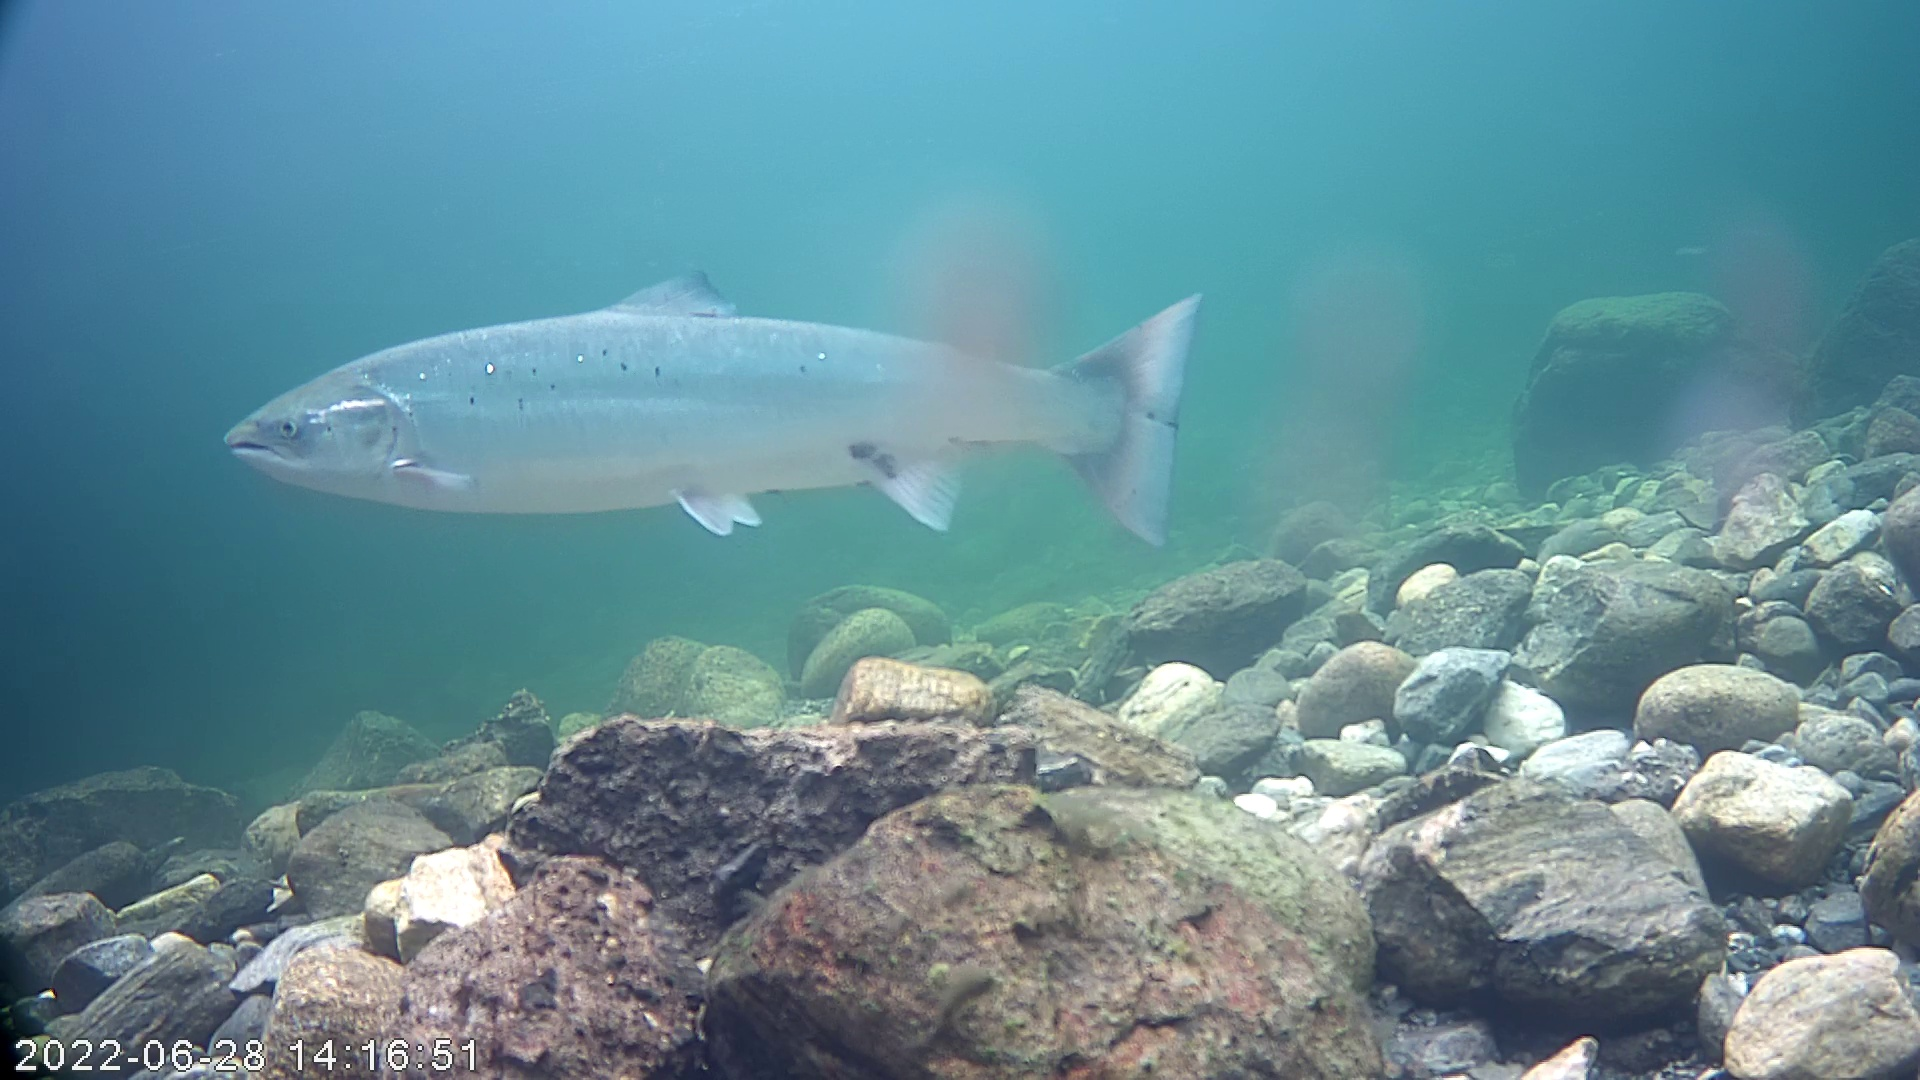salmon: (208, 164, 1204, 607)
